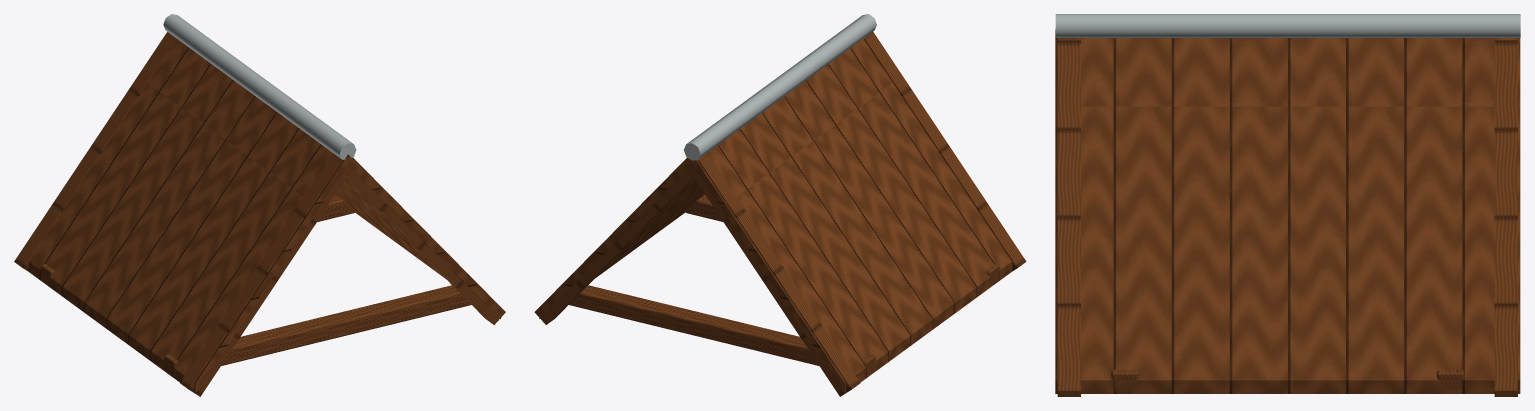
The model's file is rural-scavenging-settlements-cottage-gable-roof-24b9d6f6__26488.glb.
The picture shows the model from 3 angles, left to right: view 1: azimuth 30°, elevation 25°; view 2: azimuth 150°, elevation 25°; view 3: azimuth 270°, elevation 25°; orthographic projection. The views are drawn at different scales.
Parts seen in each view (by area): view 1: cottage-gable-roof; view 2: cottage-gable-roof; view 3: cottage-gable-roof.
Part boxes in pixels (x1,y1,x2,y2): cottage-gable-roof: [14, 14, 505, 396]; cottage-gable-roof: [534, 14, 1026, 396]; cottage-gable-roof: [1055, 14, 1520, 396].
Bounding box in the file's own units: 2.08 × 1.37 × 2.
Materials: 2 (1 with a texture image).
